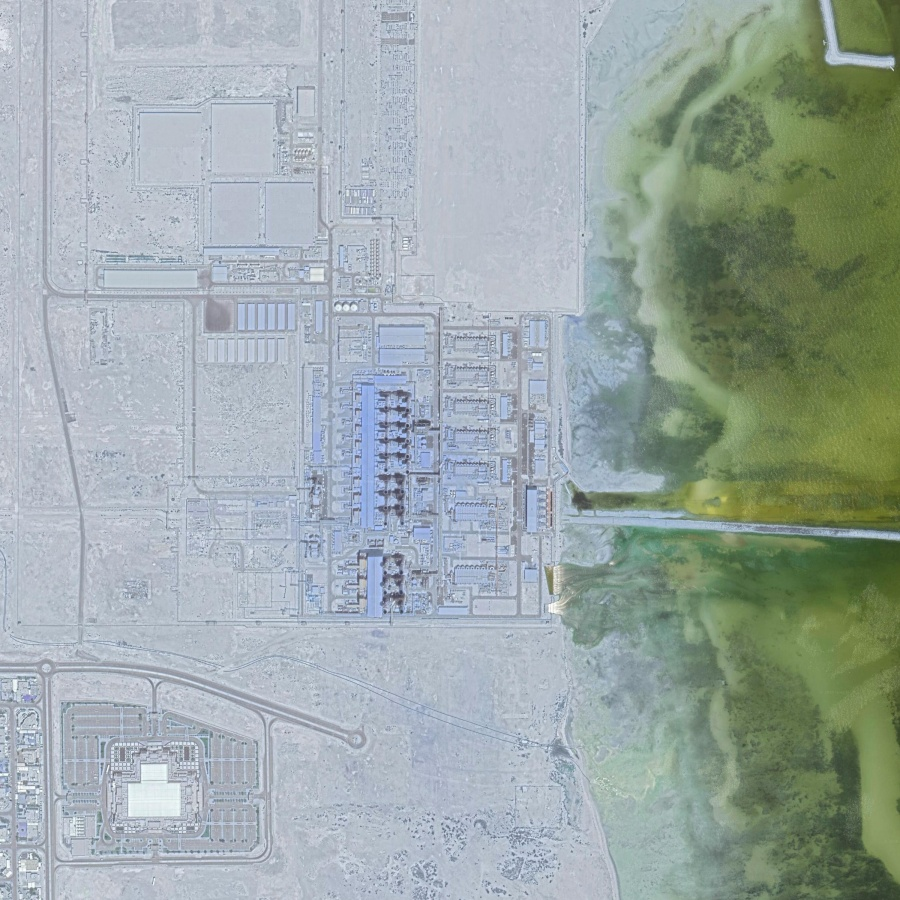PowerPlant: (322, 292, 584, 618)
